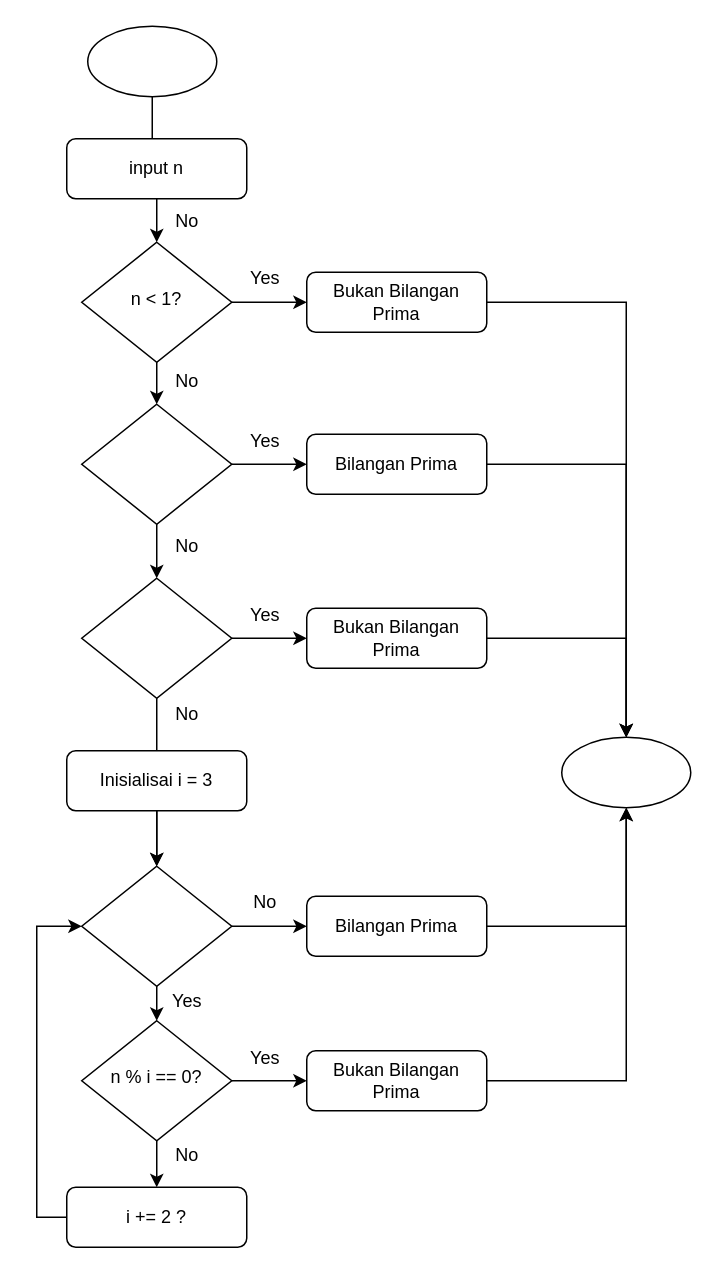
The diagram is 717 pixels wide and 1274 high, and some of its shapes have lost their labels. Each missing label, with the centre of its shape:
"Done" belongs at point (625, 772).
"i ≤ √n?" belongs at point (156, 925).
"n == 2 ?" belongs at point (156, 463).
"n genap ?" belongs at point (156, 637).
"start" belongs at point (151, 61).
